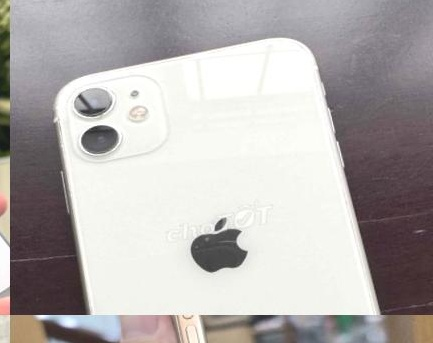scratch: (82, 30, 295, 82), (61, 76, 119, 126)
